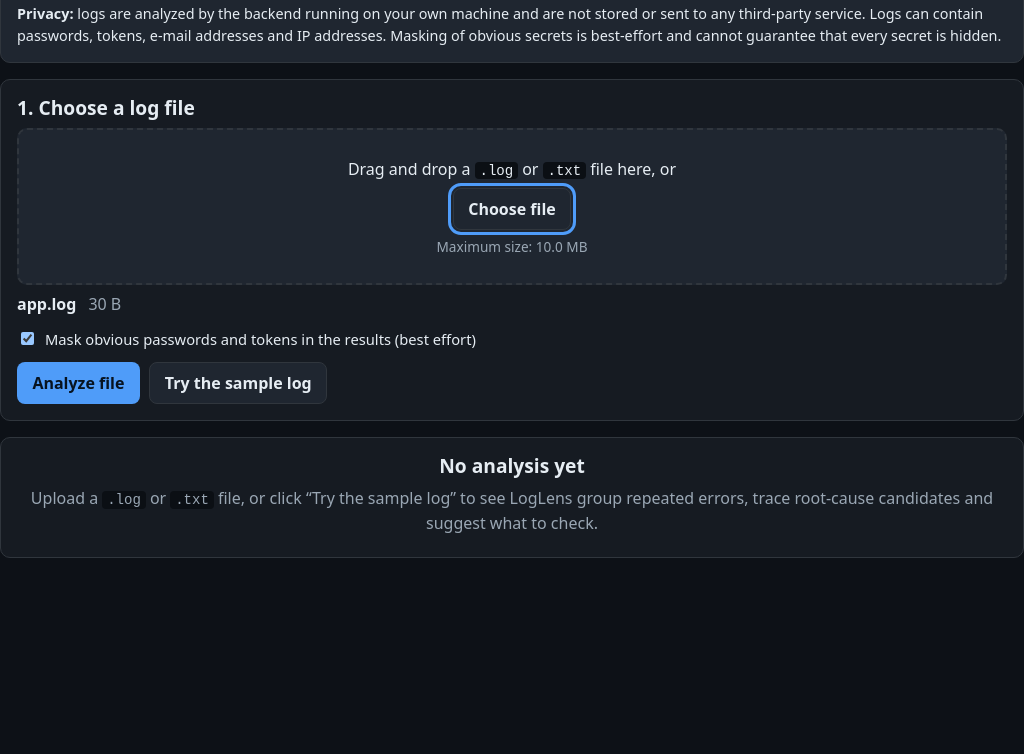
Scenario: Dashboard › says so when no errors were found
Earlier steps of the test are not shown.
Click the button "Analyze file": (78, 383) x1=17 y1=362 x2=140 y2=404
(page scrolled)
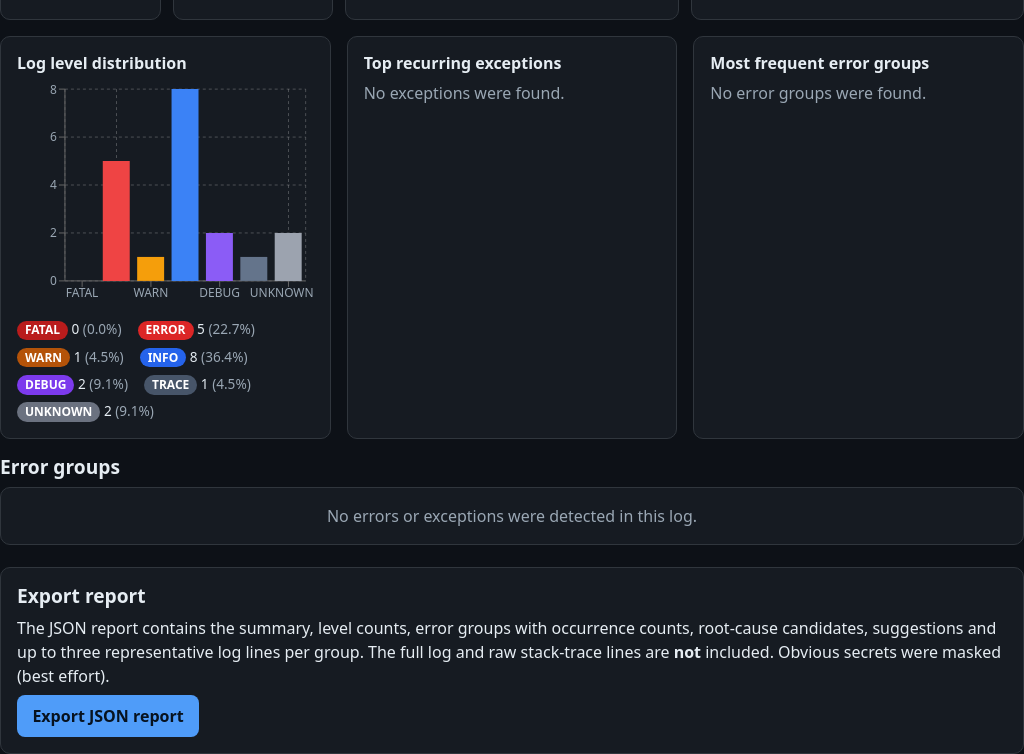
Expected: the text "No errors or exceptions were detected in this log." is shown, x1=0 y1=487 x2=1023 y2=545
